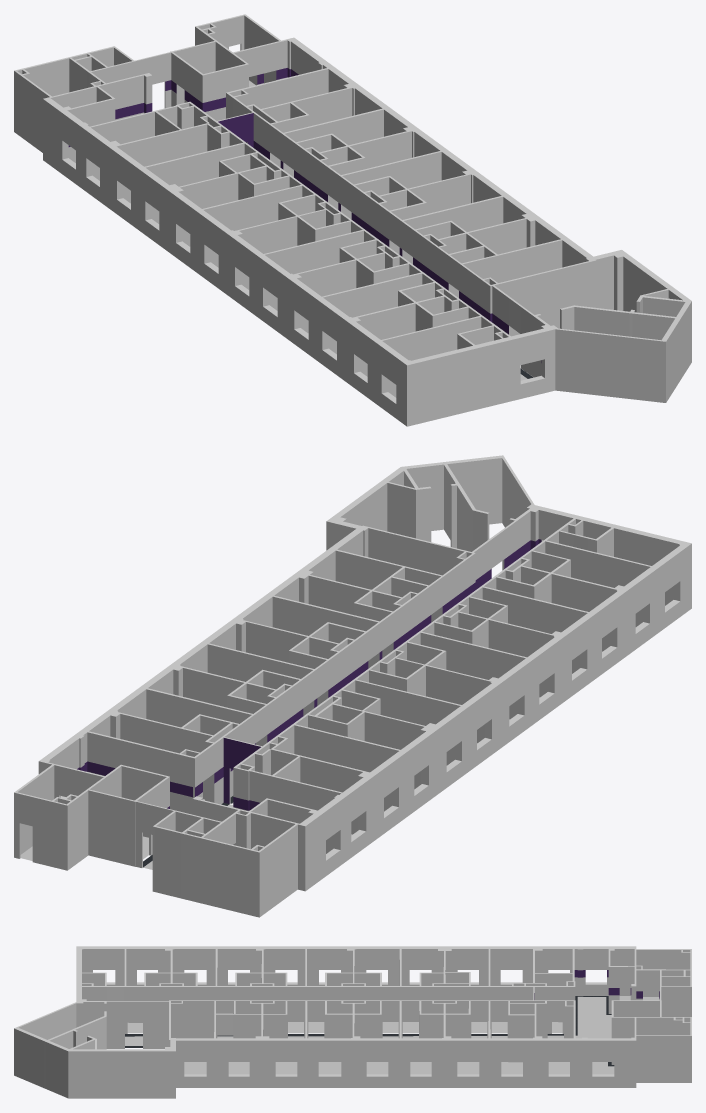
File: Palata2_4thFloor.fbx
3 renders of one model, top to bottom at view 1: azimuth 30°, elevation 25°; view 2: azimuth 150°, elevation 25°; view 3: azimuth 270°, elevation 25°, orthographic. The views are drawn at different scales.
Visible parts, largest first — view 1: Plane; view 2: Plane; view 3: Plane.
Part boxes in pixels (left/top/right/bottom): Plane: left=14, top=14, right=691, bottom=426; Plane: left=14, top=455, right=691, bottom=917; Plane: left=14, top=946, right=691, bottom=1098.
Size of the model in its own units: 2002 by 420 by 5467.
